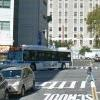Bus: (8, 38, 77, 72)
